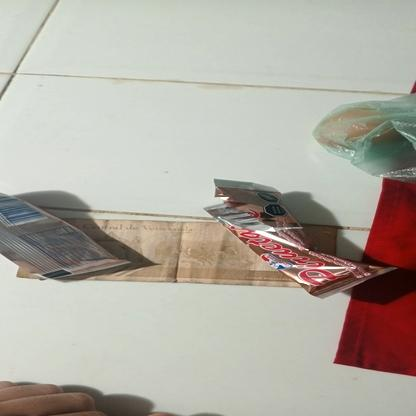five-back-vef: (15, 216, 336, 288)
